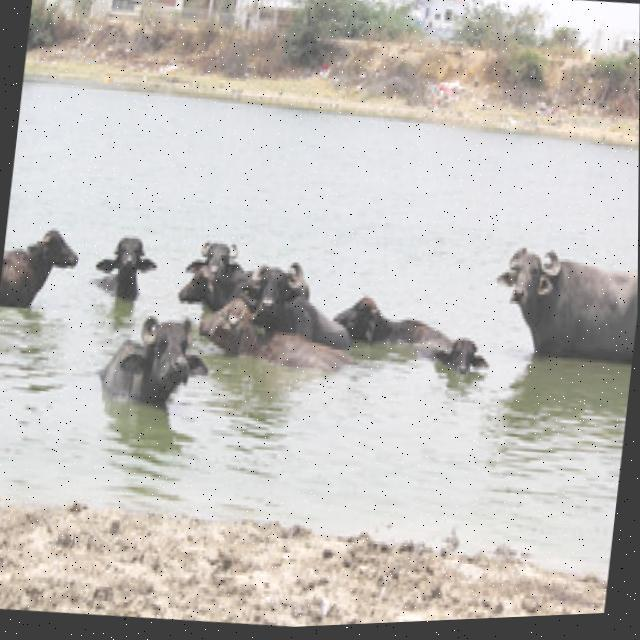Buffalo: (490, 235, 638, 370), (329, 286, 493, 381), (96, 304, 213, 410), (0, 221, 81, 319), (239, 257, 311, 333), (193, 292, 268, 360), (493, 242, 556, 308), (329, 291, 388, 345), (95, 232, 160, 279), (139, 311, 198, 358), (31, 226, 82, 273), (190, 236, 241, 276)
